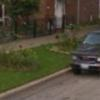cars: (69, 30, 100, 78)
